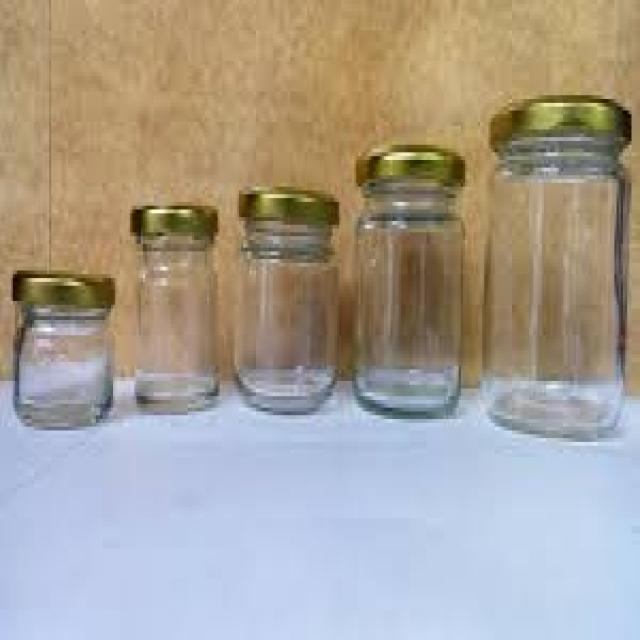glass: (480, 137, 627, 438), (350, 183, 463, 415), (230, 214, 335, 412), (132, 232, 218, 404), (11, 301, 111, 423)
metal: (487, 91, 630, 145), (352, 137, 463, 183), (8, 267, 111, 305), (237, 183, 337, 217), (128, 202, 215, 228)
